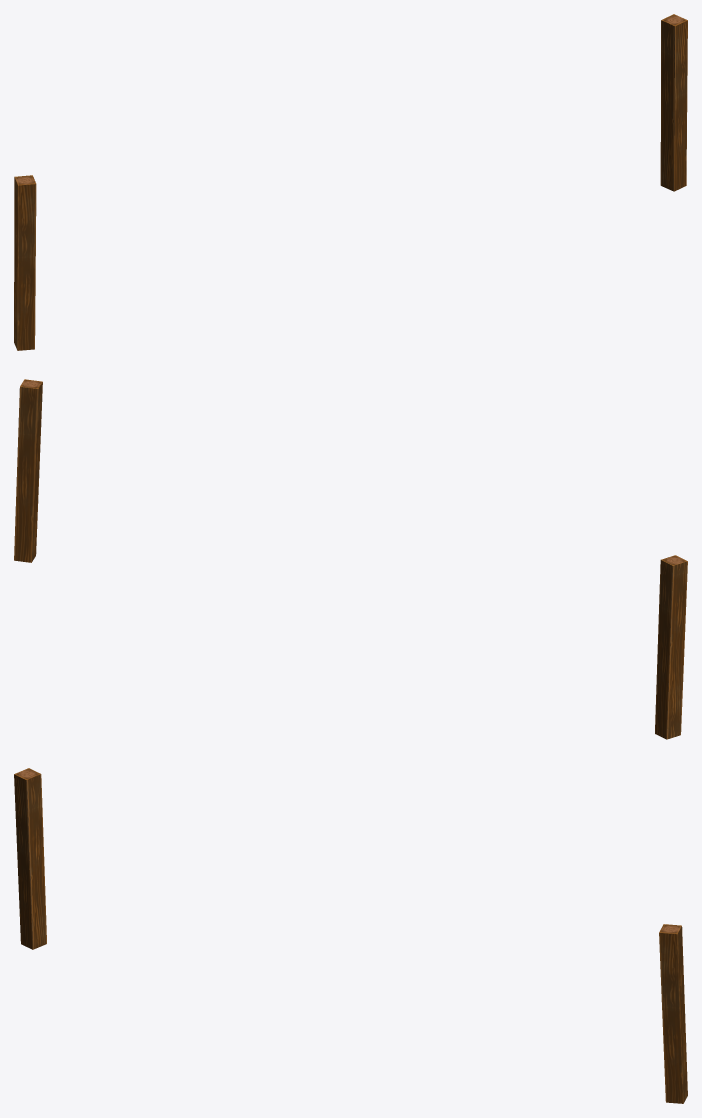
3 views of the same model, one above another, from view 1: azimuth 30°, elevation 25°; view 2: azimuth 150°, elevation 25°; view 3: azimuth 330°, elevation 25° (orthographic).
Visible parts, largest first — view 1: Cube.2029; view 2: Cube.2029; view 3: Cube.2029.
Part boxes in pixels (bbox=[...]): Cube.2029: bbox=[14, 14, 687, 350]; Cube.2029: bbox=[14, 379, 687, 739]; Cube.2029: bbox=[14, 768, 687, 1103].
Size of the model in its own units: 2287 by 594 by 145.
1 material, 1 textured.
